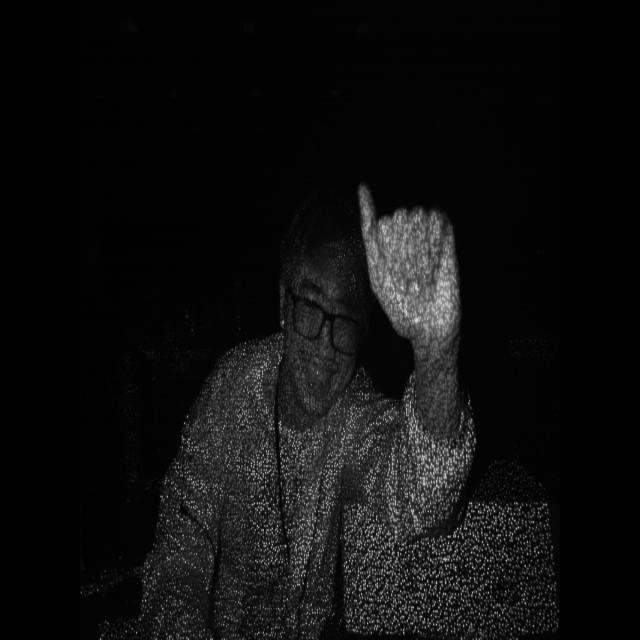A: (355, 166, 491, 352)
